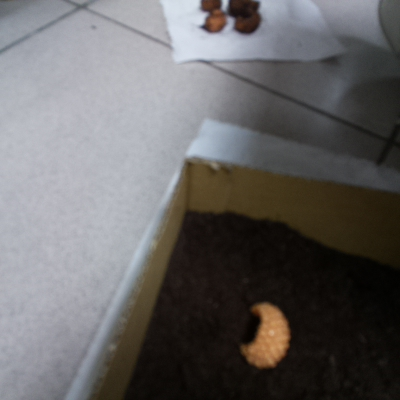eggs: (235, 297, 295, 369)
